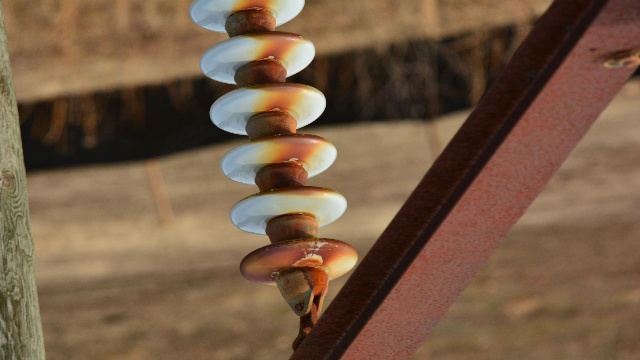insulator_unspecified: (189, 0, 361, 288)
pollution_flashover_local: (292, 250, 323, 274)
